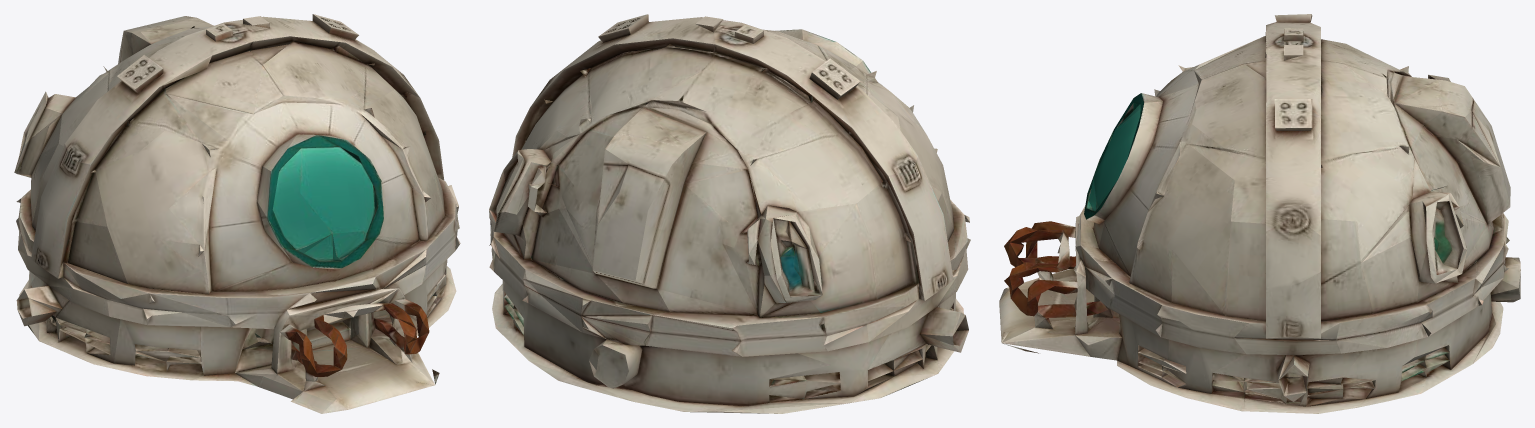
The model's file is facility-shieldLab.glb.
The picture shows the model from 3 angles, left to right: view 1: azimuth 30°, elevation 25°; view 2: azimuth 150°, elevation 25°; view 3: azimuth 270°, elevation 25°; orthographic projection. The views are drawn at different scales.
Size of the model in its own units: 1.84 by 1.12 by 1.9.
1 material, 1 textured.
